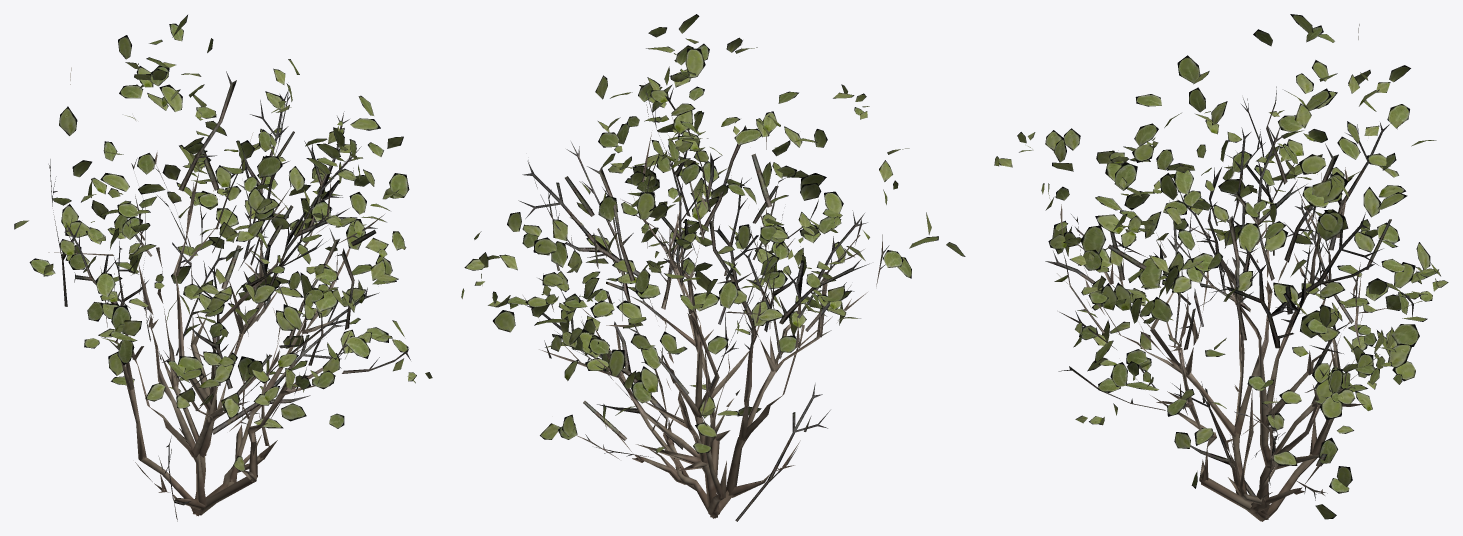
File: arbuste_searsia_a_lod1.glb
3 renders of one model, left to right at view 1: azimuth 30°, elevation 25°; view 2: azimuth 150°, elevation 25°; view 3: azimuth 270°, elevation 25°, orthographic. The views are drawn at different scales.
Parts seen in each view (by area): view 1: searsia_lucida_a_LOD0; view 2: searsia_lucida_a_LOD0; view 3: searsia_lucida_a_LOD0.
Part boxes in pixels (<box>): searsia_lucida_a_LOD0: <box>14,15,432,521</box>; searsia_lucida_a_LOD0: <box>461,14,965,521</box>; searsia_lucida_a_LOD0: <box>994,14,1448,521</box>.
Size of the model in its own units: 1.72 by 2.27 by 1.83.
Materials: 2 (2 with a texture image).
